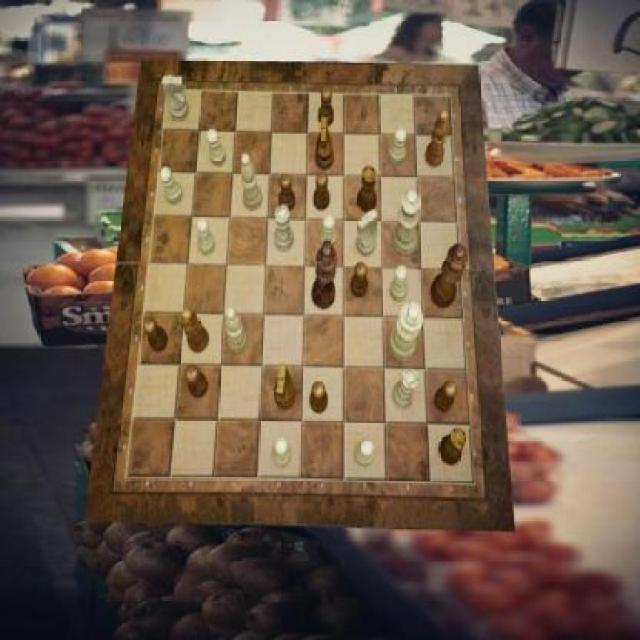bishop: (424, 109, 448, 168), (183, 308, 211, 353)
black-bishop: (312, 240, 338, 311)
black-king: (274, 365, 296, 410), (316, 117, 334, 171)
black-knight: (143, 317, 168, 351), (185, 364, 208, 398), (434, 378, 457, 412), (314, 172, 331, 211), (318, 88, 334, 128), (280, 174, 297, 211), (351, 262, 368, 298), (311, 382, 328, 416)
black-pawn: (431, 243, 468, 309)
black-queen: (438, 428, 468, 466), (357, 166, 377, 214)
black-rook: (241, 152, 264, 210), (225, 306, 248, 352)
white-bishop: (388, 302, 423, 362)
white-king: (162, 76, 188, 121), (355, 209, 378, 257)
white-knight: (160, 166, 183, 204), (208, 129, 228, 167), (388, 128, 407, 165), (196, 217, 214, 255), (272, 437, 292, 469), (391, 266, 408, 302), (319, 215, 336, 250), (354, 439, 374, 466)
white-pawn: (392, 189, 422, 257)
white-queen: (394, 369, 420, 409), (274, 206, 294, 252)
